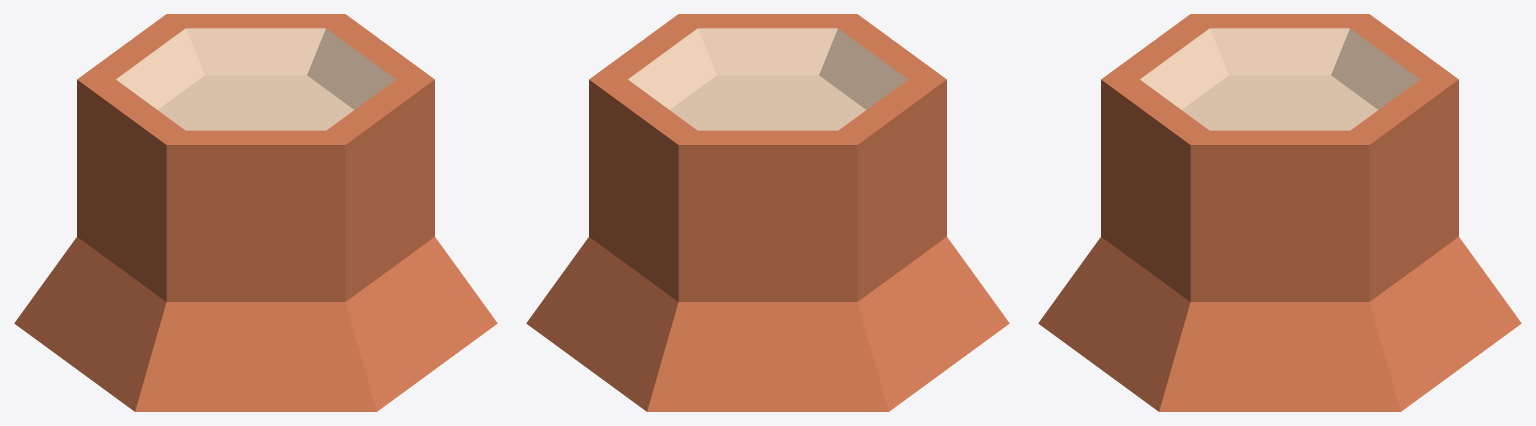
File: k-stump-round.glb
The picture shows the model from 3 angles, left to right: view 1: azimuth 30°, elevation 25°; view 2: azimuth 150°, elevation 25°; view 3: azimuth 270°, elevation 25°; orthographic projection.
Parts seen in each view (by area): view 1: stump_round; view 2: stump_round; view 3: stump_round.
Part boxes in pixels (x1,y1,x2,y2): stump_round: [14, 14, 497, 411]; stump_round: [526, 14, 1009, 411]; stump_round: [1038, 14, 1521, 411].
Bounding box in the file's own units: 0.3213 × 0.2065 × 0.371.
